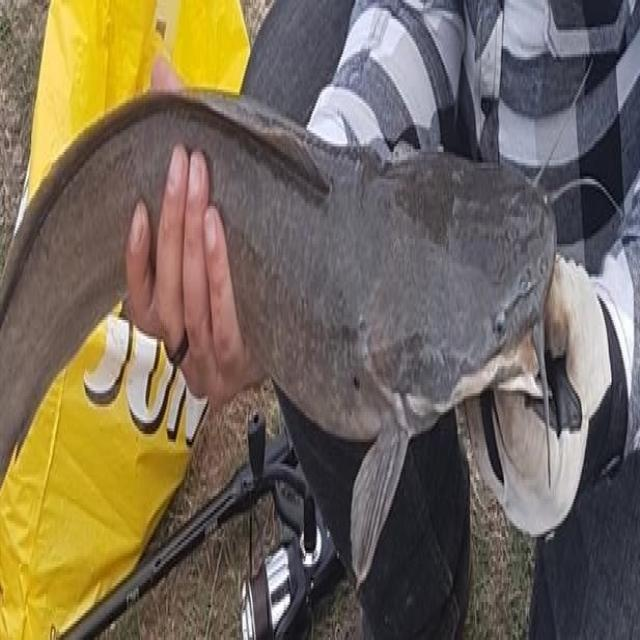Catfish: (2, 65, 610, 589)
